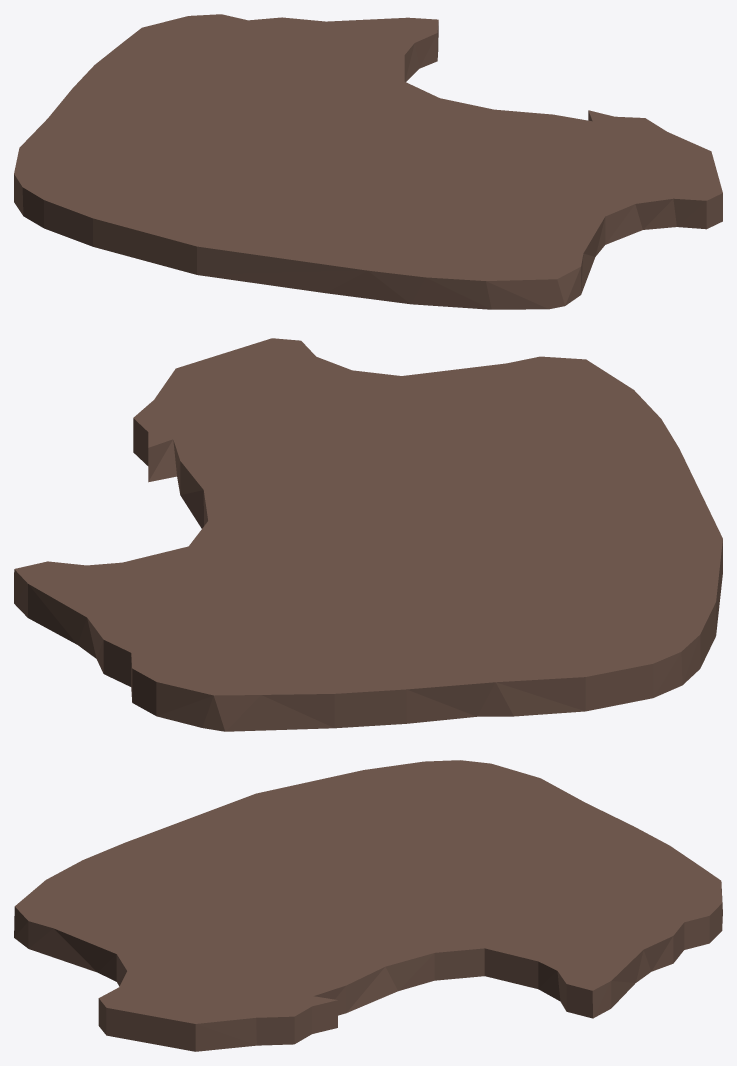
The model's file is RAS_Ground03.fbx.
The picture shows the model from 3 angles, top to bottom: view 1: azimuth 30°, elevation 25°; view 2: azimuth 150°, elevation 25°; view 3: azimuth 270°, elevation 25°; orthographic projection. The views are drawn at different scales.
Visible parts, largest first — view 1: RAS_Ground03; view 2: RAS_Ground03; view 3: RAS_Ground03.
Part boxes in pixels (left/top/right/bottom): RAS_Ground03: left=14, top=14, right=722, bottom=309; RAS_Ground03: left=14, top=338, right=722, bottom=731; RAS_Ground03: left=14, top=760, right=722, bottom=1051.
Size of the model in its own units: 341 by 16.75 by 387.
Materials: 1 (1 with a texture image).
